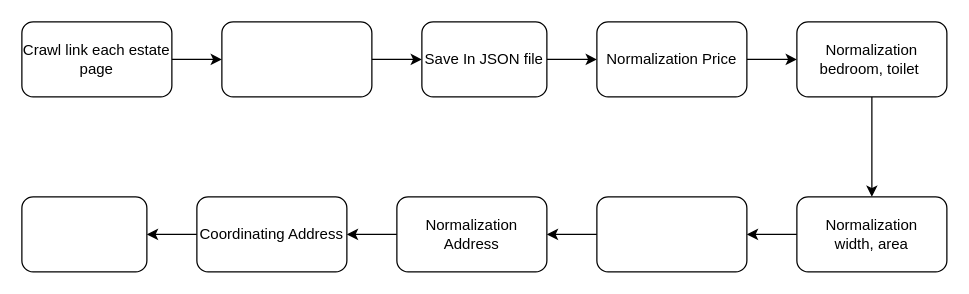
The diagram is 969 pixels wide and 294 high, and some of its shapes have lost their labels. Here are the shapes that lost their labels. From the top down, the centre of each, then its label:
(x=296, y=59): Crawl detail data of each estate
(x=84, y=234): Data Storage
(x=671, y=234): Normalization Type of estate
